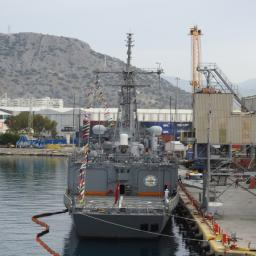Fragata: (62, 26, 182, 243)
